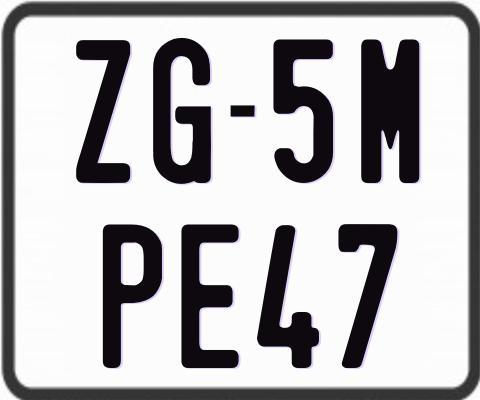4: (256, 224, 322, 370)
5: (271, 36, 332, 186)
7: (335, 221, 398, 366)
E: (180, 224, 240, 371)
G: (150, 37, 212, 185)
M: (360, 38, 422, 188)
P: (100, 223, 163, 367)
Z: (74, 38, 132, 187)
